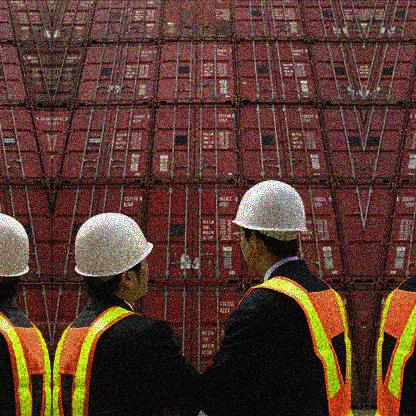helmet: (74, 211, 155, 302), (231, 179, 309, 273)
